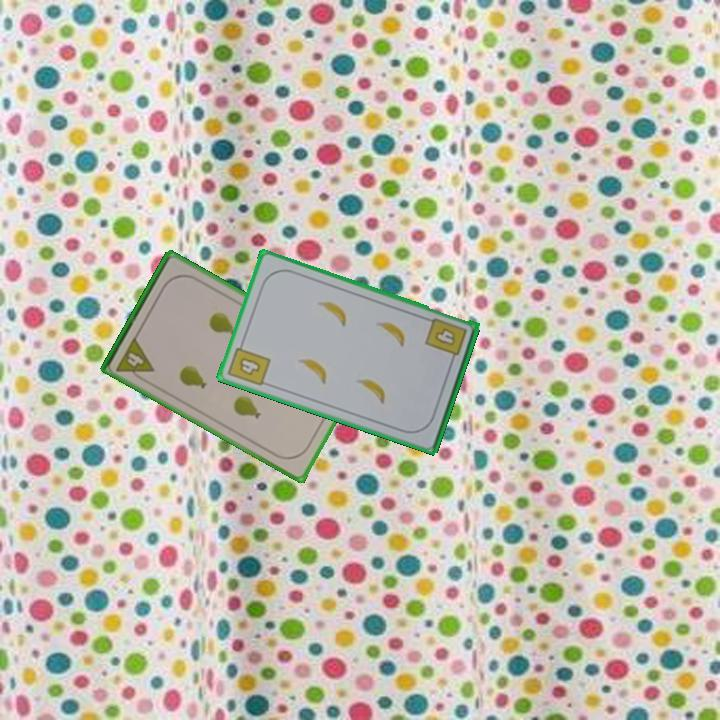4b: (224, 337, 273, 389), (422, 314, 470, 366)
4p: (113, 333, 157, 385)
